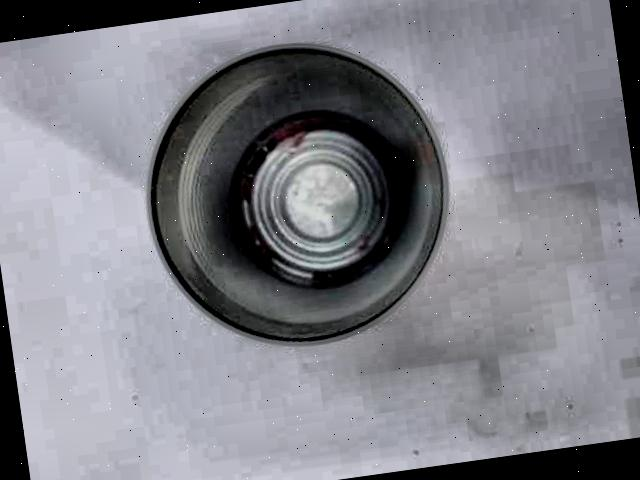Almennt: (114, 4, 487, 376)
